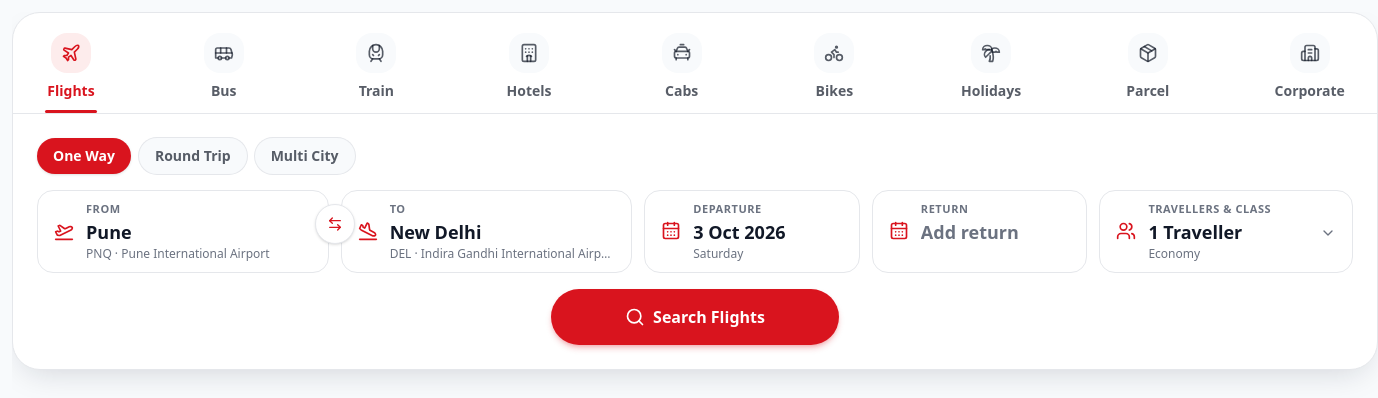
Test: SearchWidget — flights › swaps origin and destination
This screenshot has width=1378, height=398.
Click the button named "Swap origin and destination". click: click(335, 224)
box: [315, 204, 355, 244]
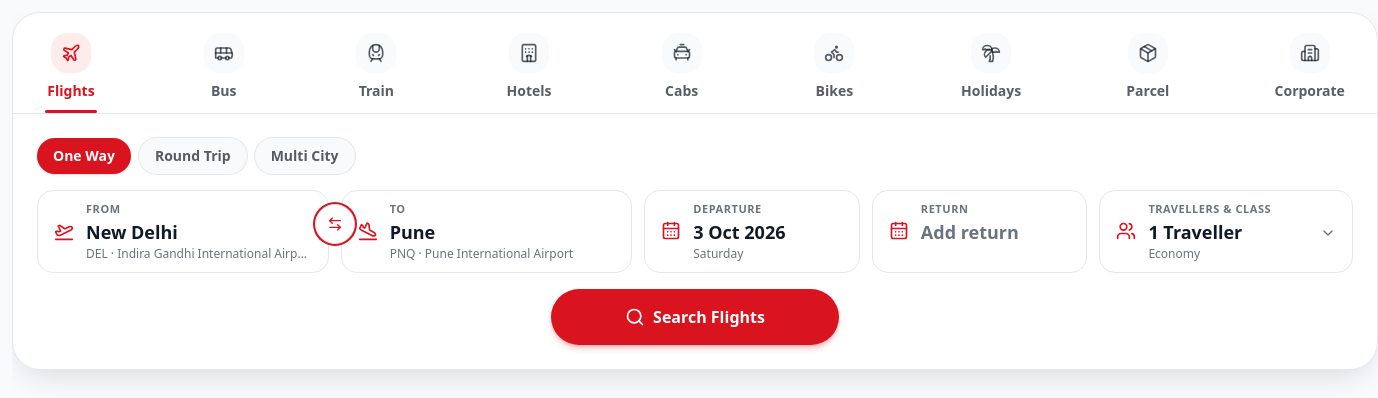
Result: the dropdown labelled "From" holds "New Delhi" at [86, 218, 312, 246]
Click the button "Search Flights". click: click(695, 316)
box: [551, 288, 839, 344]
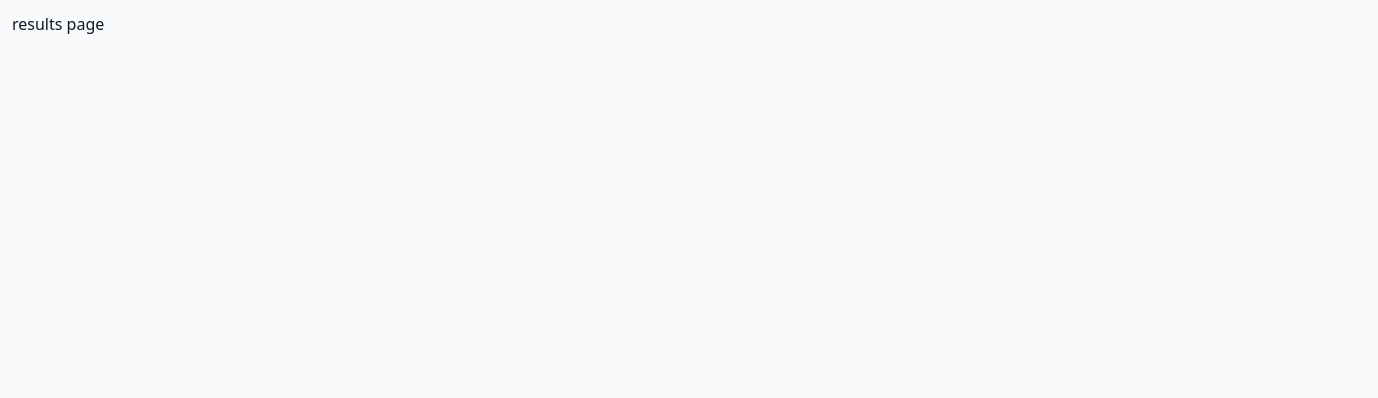
Result: the text "results page" is shown at [12, 13, 104, 35]
